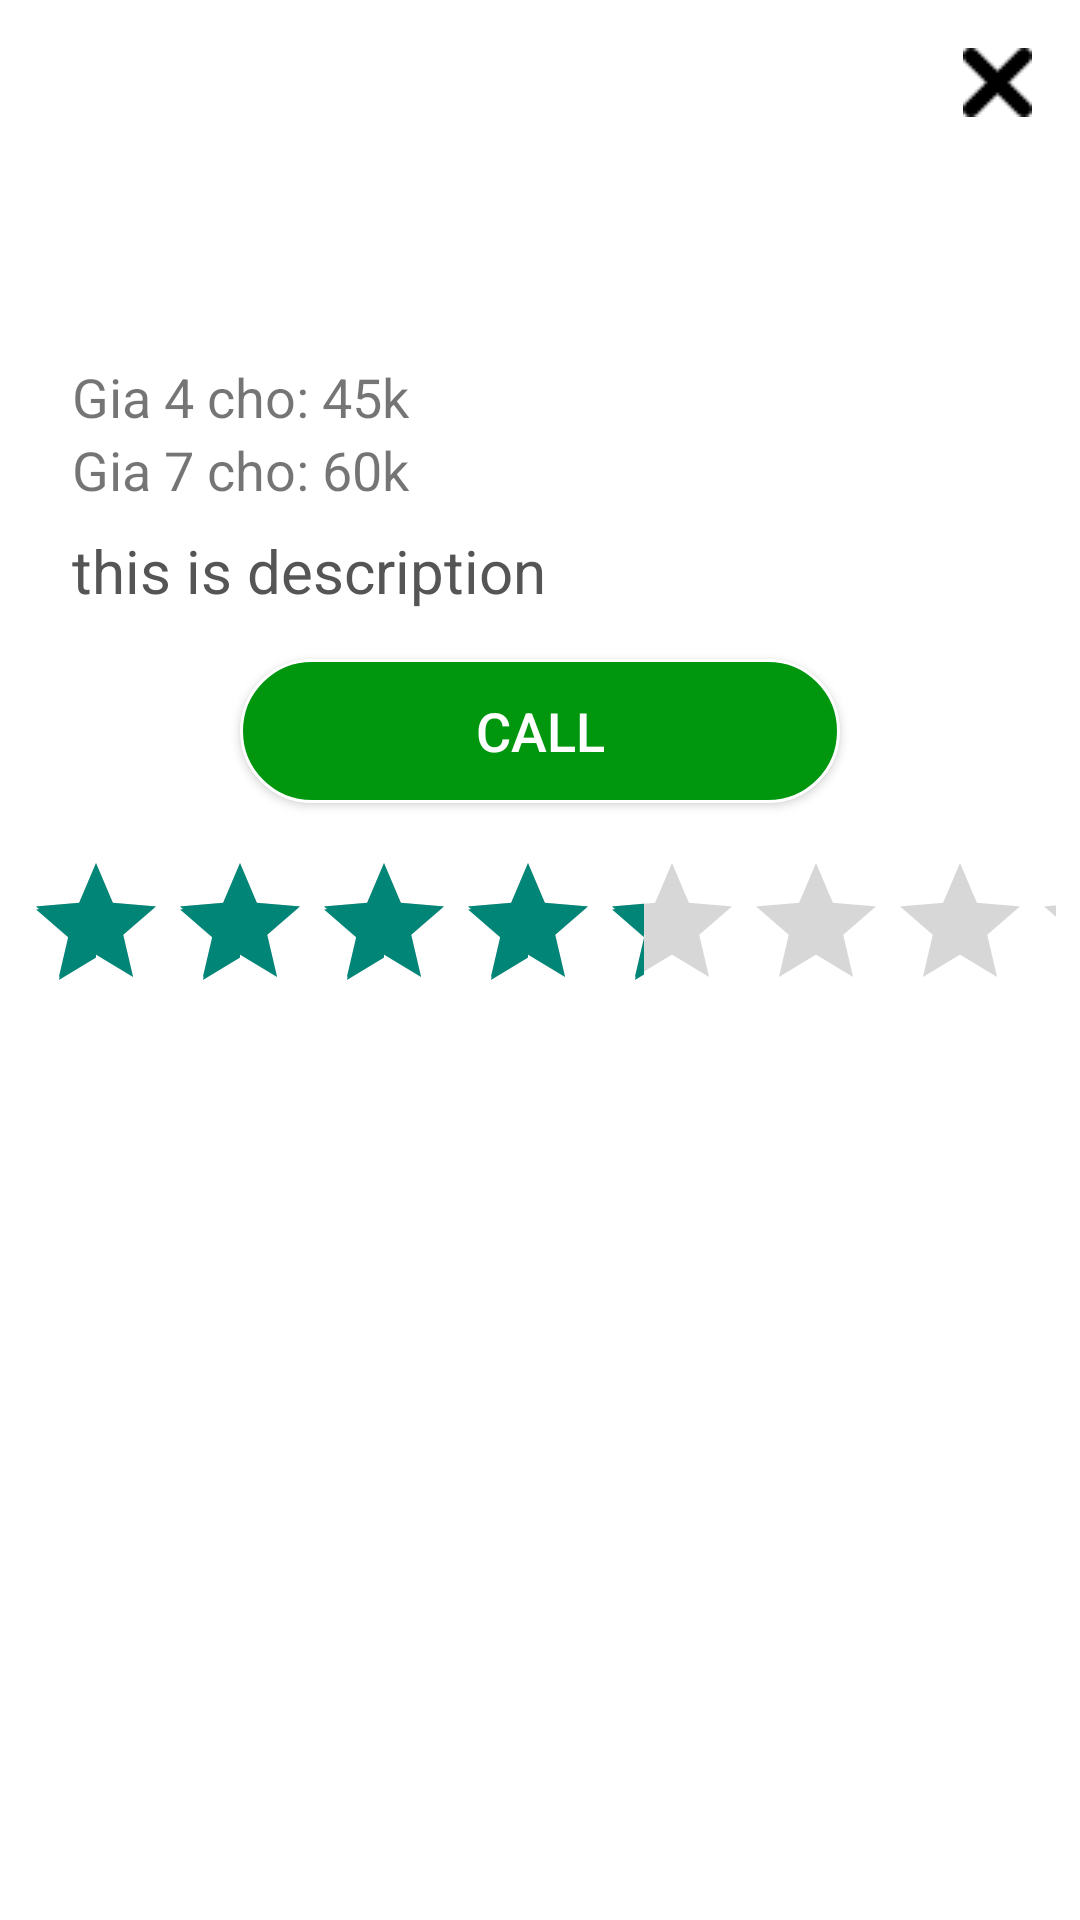

Locate icon controls on the screen. Image size 1080px x 1920px, boxes as (x1, y1, x2, y2).
delete: (963, 48, 1032, 117)
